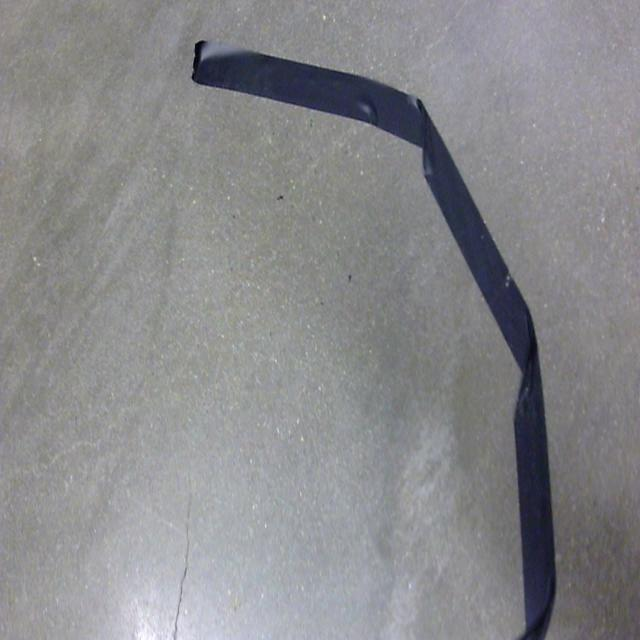tape: (146, 16, 576, 640)
